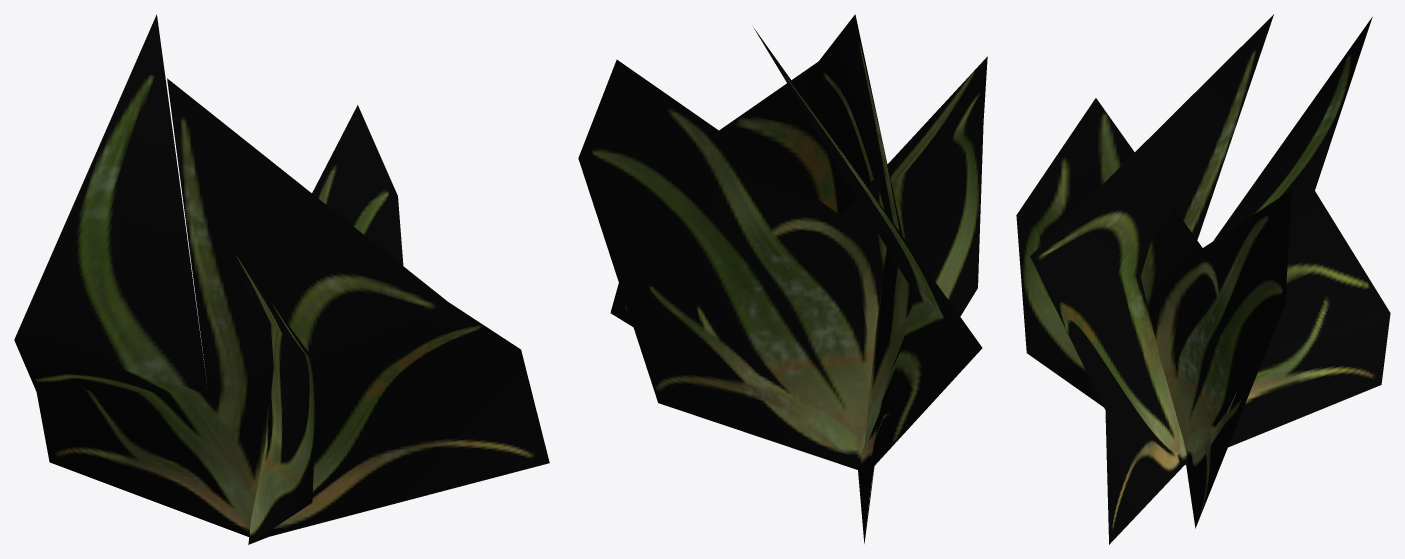
File: small_c.obj
3 renders of one model, left to right at view 1: azimuth 30°, elevation 25°; view 2: azimuth 150°, elevation 25°; view 3: azimuth 270°, elevation 25°, orthographic. The views are drawn at different scales.
Bounding box in the file's own units: 0.054 × 0.0552 × 0.0415.
1 material, 1 textured.
